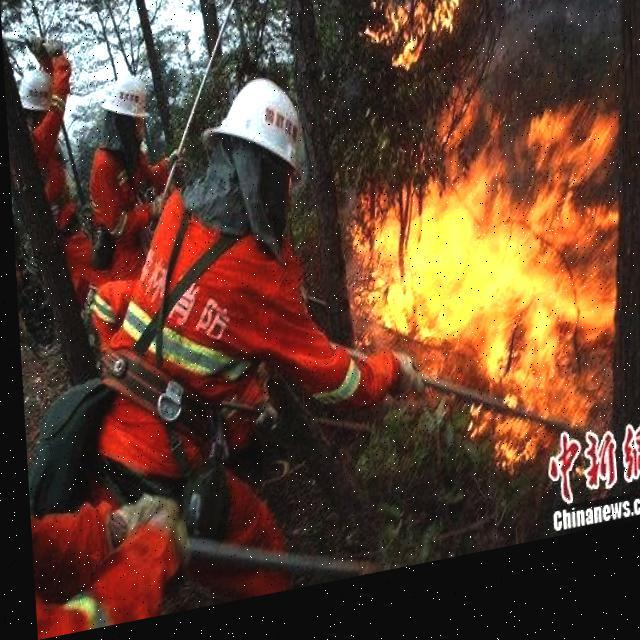Fire: (338, 106, 630, 508), (350, 0, 474, 102)
